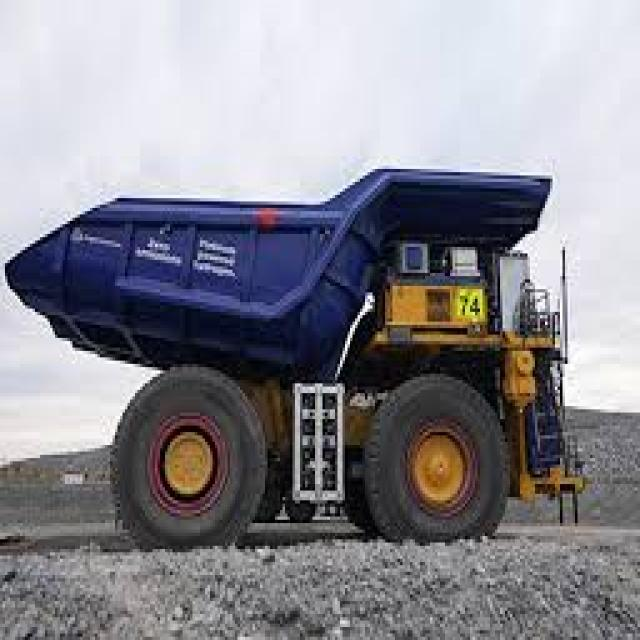dump_truck: (5, 120, 595, 562)
